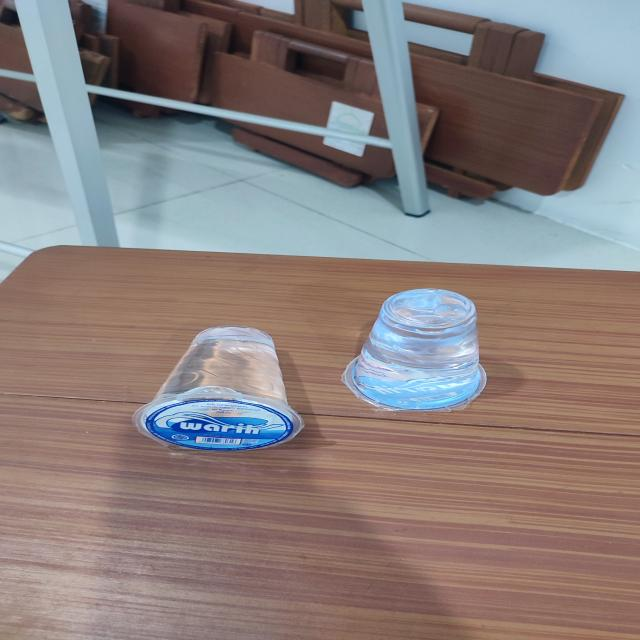air gelas: (136, 321, 319, 455), (347, 284, 504, 416)
